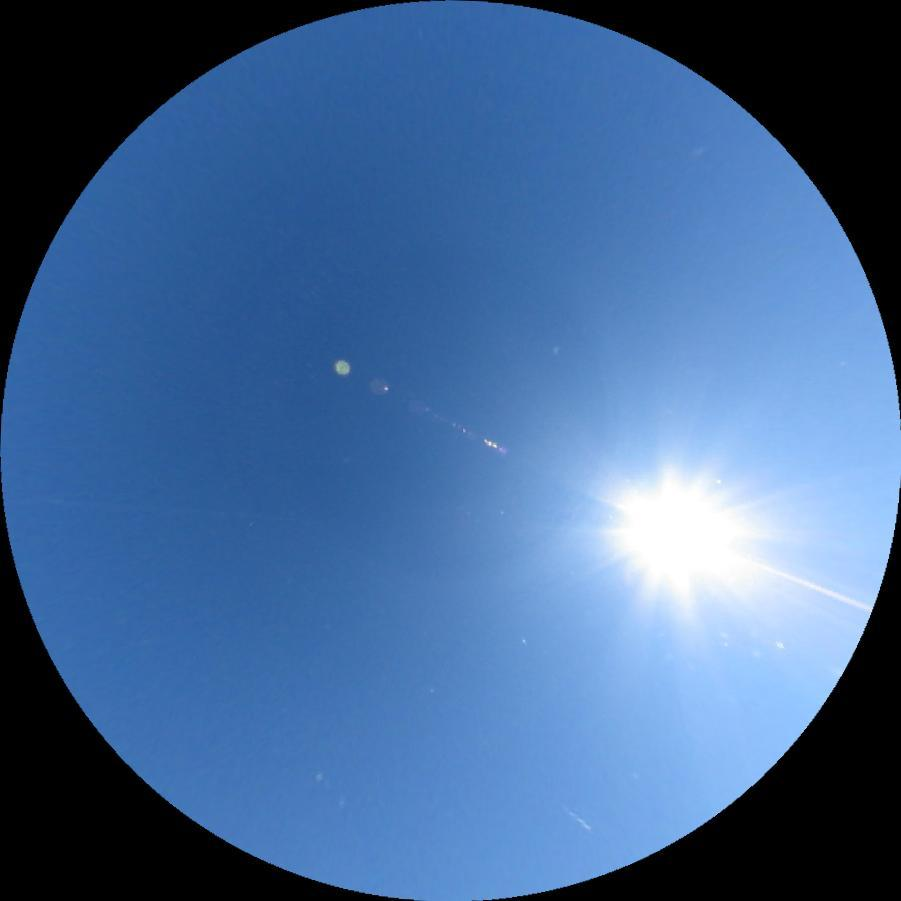contrail young: (562, 803, 593, 834)
parasite: (735, 552, 875, 610)
sun: (607, 461, 752, 606)
